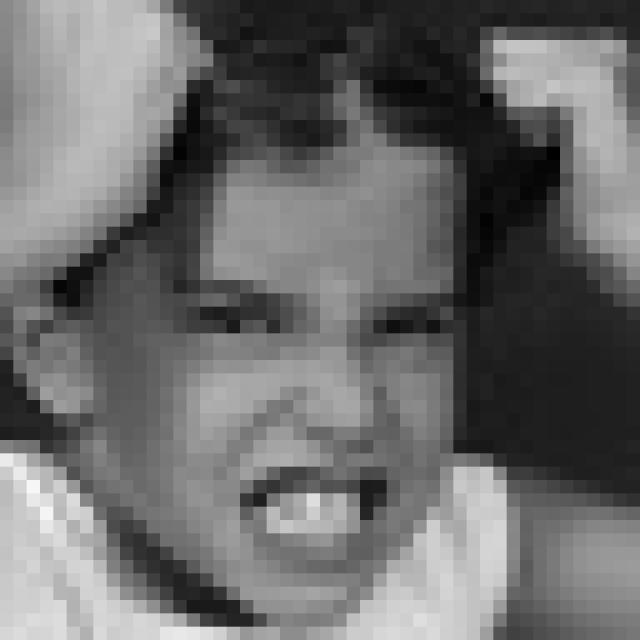angry: (166, 276, 463, 569)
